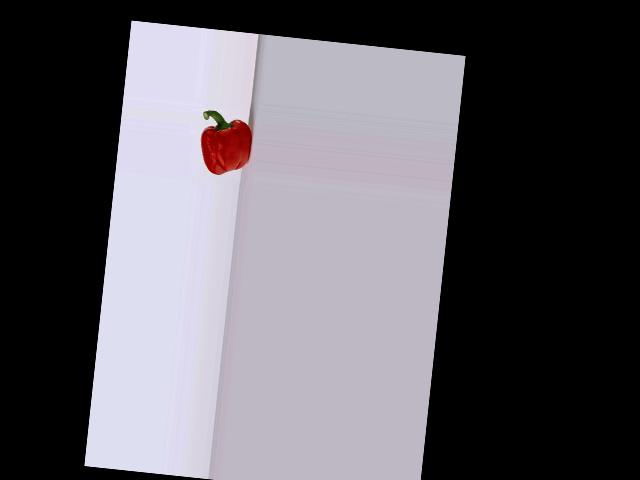bell_pepper: (194, 103, 257, 181)
